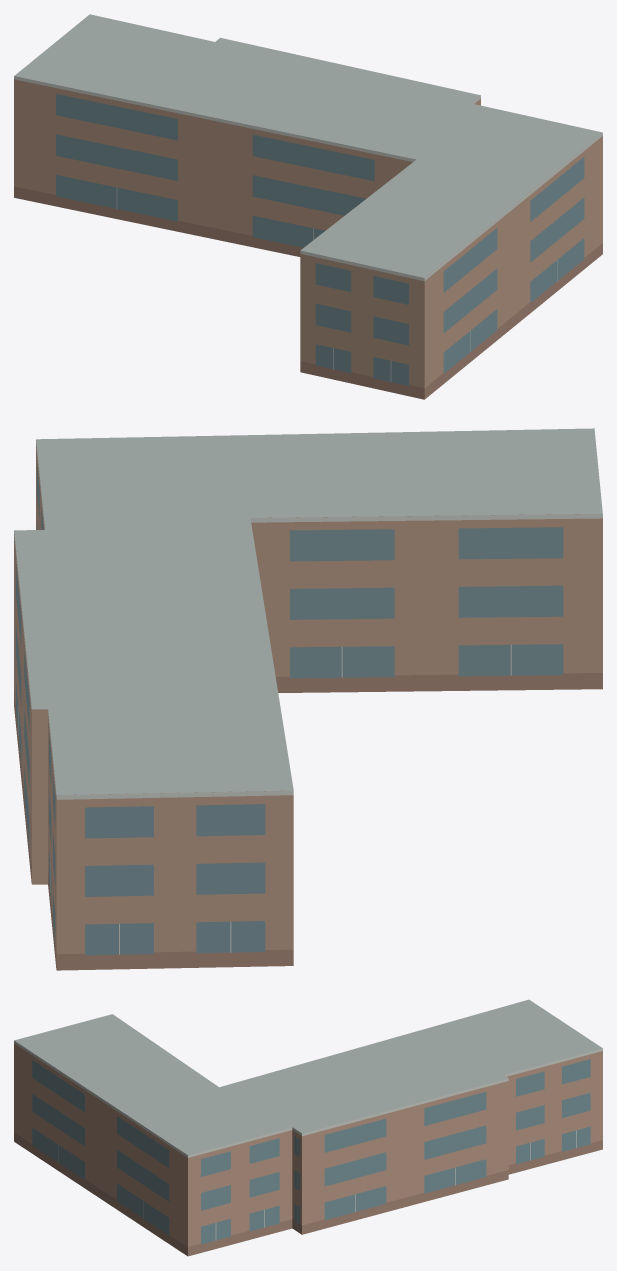
The model's file is survey-upis-32725782.glb.
3 views of the same model, one above another, from view 1: azimuth 30°, elevation 25°; view 2: azimuth 150°, elevation 25°; view 3: azimuth 270°, elevation 25° (orthographic). The views are drawn at different scales.
Parts seen in each view (by area): view 1: survey-upis-32725782.tmp; view 2: survey-upis-32725782.tmp; view 3: survey-upis-32725782.tmp.
Boxes of the visible parts, x1,y1,x2,y2 form: survey-upis-32725782.tmp: (14, 14, 602, 399); survey-upis-32725782.tmp: (14, 428, 602, 970); survey-upis-32725782.tmp: (14, 999, 602, 1256).
Bounding box in the file's own units: 30.22 × 9.15 × 48.27.
